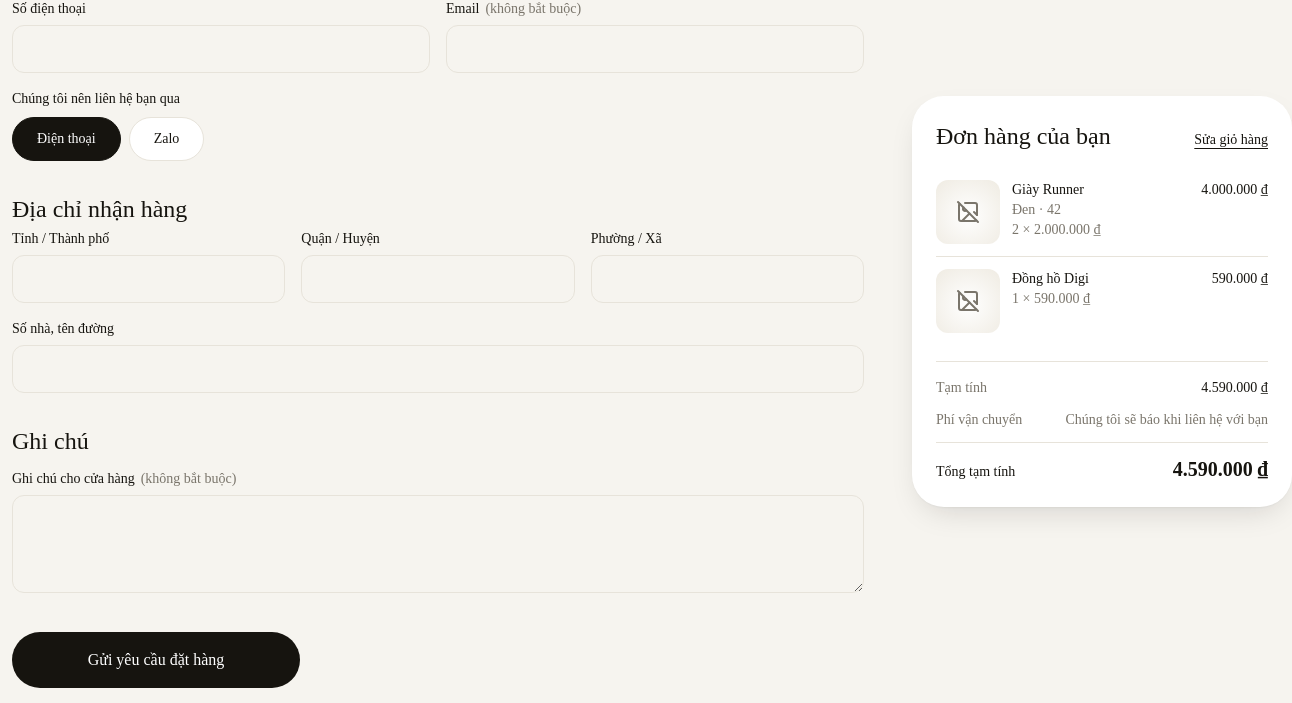
Test case: when the server says no › names the item that is short on stock, offers the cart, and reloads the cart data
(page scrolled)
Expected: the text "Giày Runner" is shown, [1012, 182, 1084, 197]
Step 1. Click the button "Gửi yêu cầu đặt hàng" → (156, 660), box [12, 632, 300, 688]
(page scrolled)
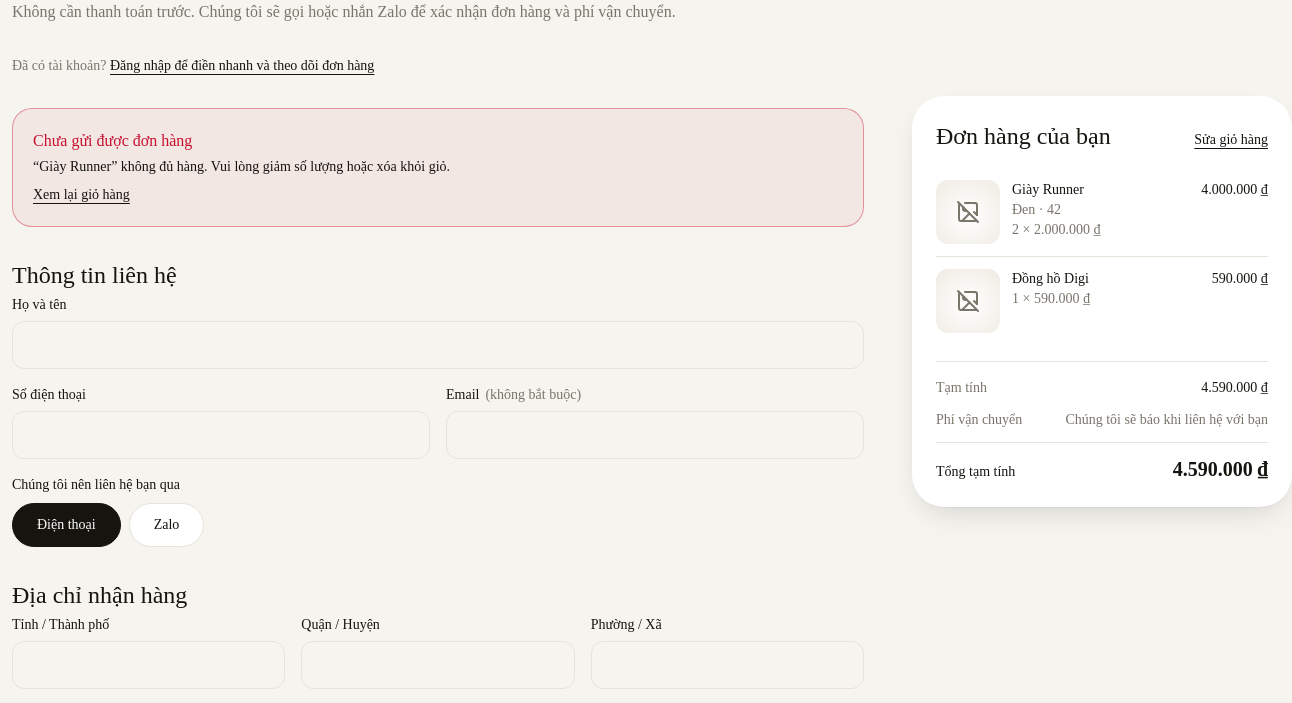
Result: the message shows "“Giày Runner” không đủ hàng" at [33, 159, 450, 174]
